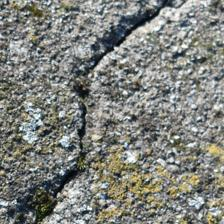Crack: (0, 59, 124, 135), (0, 110, 143, 151)
